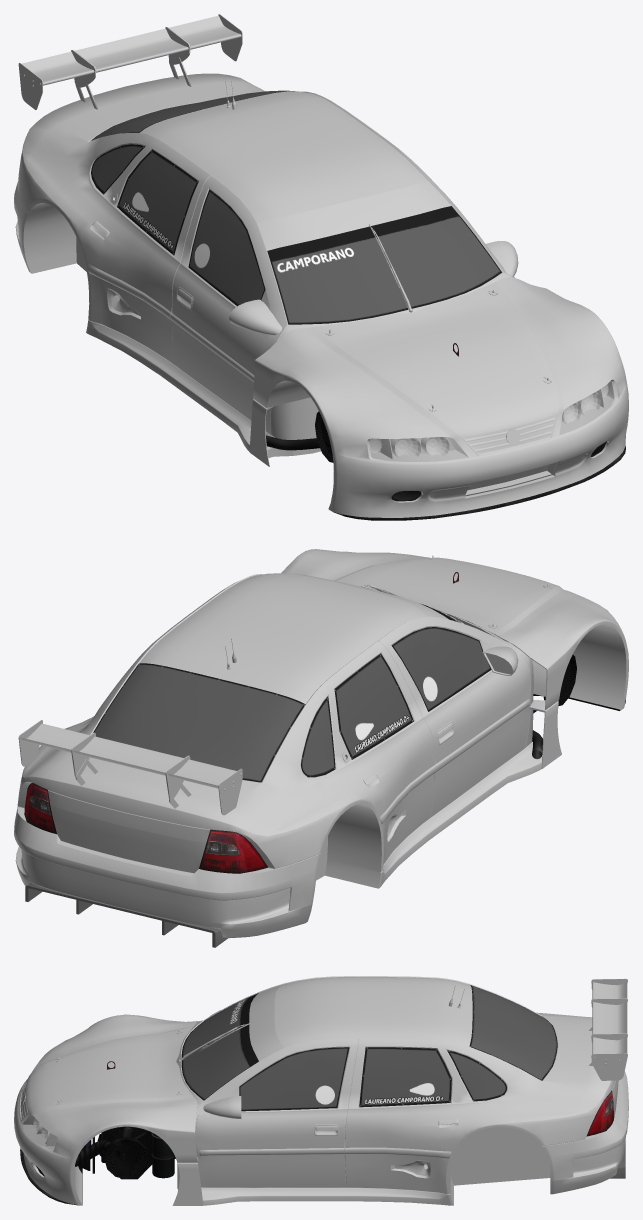
Rendered from Chev.FBX.
3 renders of one model, top to bottom at view 1: azimuth 30°, elevation 25°; view 2: azimuth 150°, elevation 25°; view 3: azimuth 270°, elevation 25°, orthographic. The views are drawn at different scales.
Visible parts, largest first — view 1: Chev_Carbody, Chev_Hood, Chev_Wing; view 2: Chev_Carbody, Chev_Hood, Chev_Wing; view 3: Chev_Carbody, Chev_Hood, Chev_Wing, Susp_L.
Boxes of the visible parts, x1,y1,x2,y2 form: Chev_Carbody: (14,73,625,520); Chev_Hood: (253,277,628,517); Chev_Wing: (18,14,242,109); Chev_Carbody: (14,572,625,947); Chev_Hood: (281,549,628,710); Chev_Wing: (18,720,242,815); Chev_Carbody: (20,976,628,1205); Chev_Hood: (14,1014,197,1204); Chev_Wing: (589,978,627,1080); Susp_L: (104,1126,148,1179).
Size of what is drawn, in the model's own units: 187 by 131 by 442.
